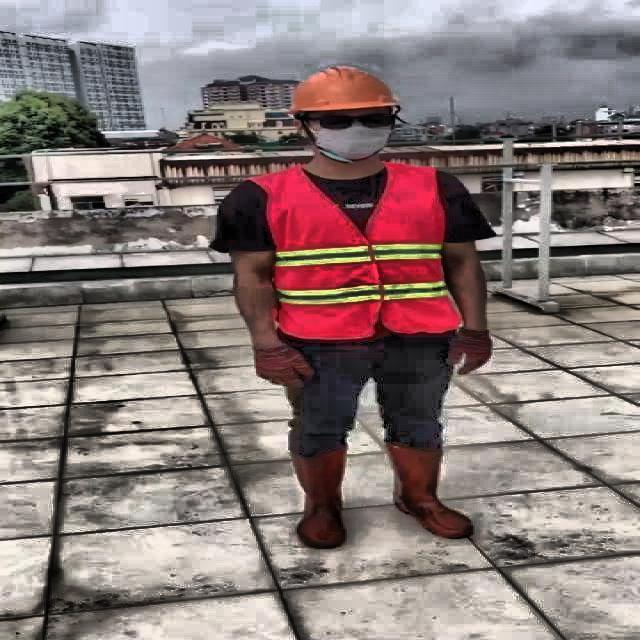safety_helmet: (285, 64, 400, 116)
safety_jacket: (262, 165, 462, 337)
